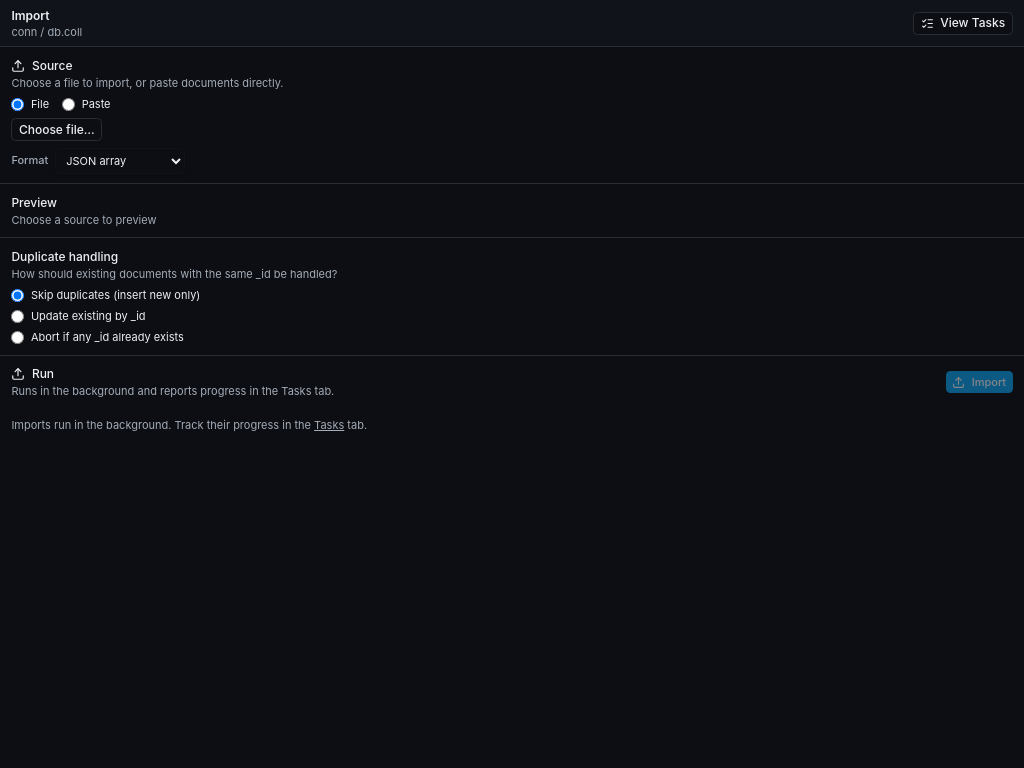
Test case: ImportView preview › debounces and renders a CSV grid with type selects
This screenshot has width=1024, height=768.
Click the button with test id "import-pick-file-btn". click: coordinates (57, 130)
box: [11, 118, 102, 141]
Wait 350 ms
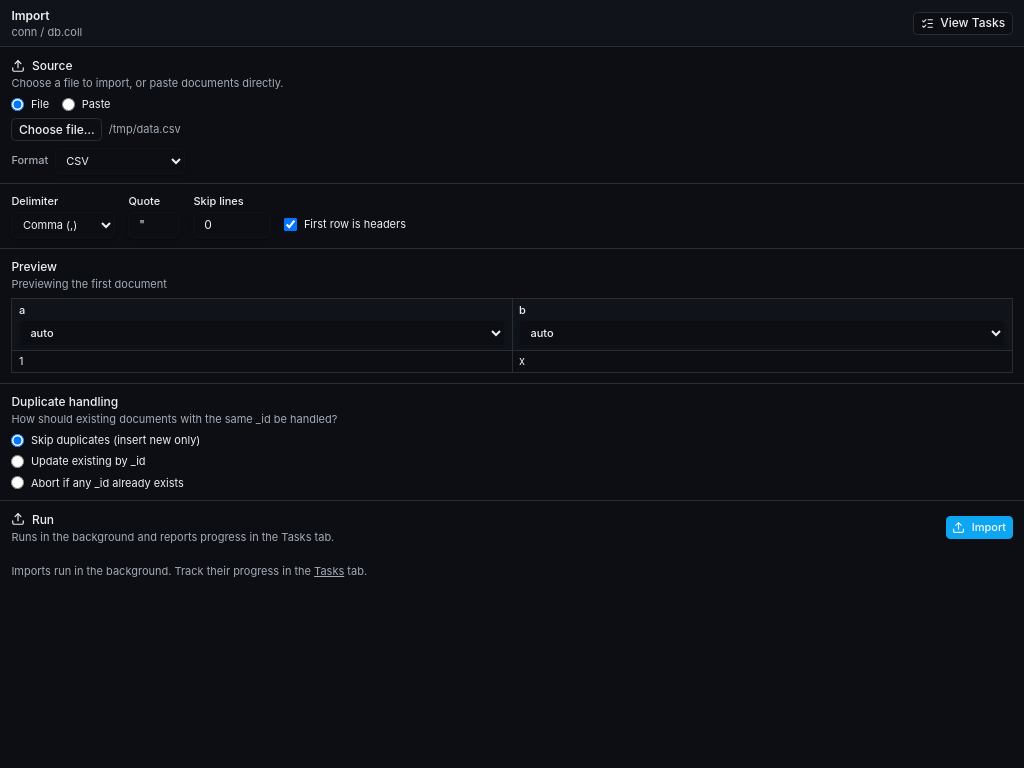
Expected: the text "/tmp/data.csv" is shown, [109, 122, 181, 137]
Expected: the table with test id "import-preview-grid" is shown, [11, 298, 1013, 373]
Expected: the dropdown with test id "import-coltype-a" is shown, [19, 320, 505, 346]
